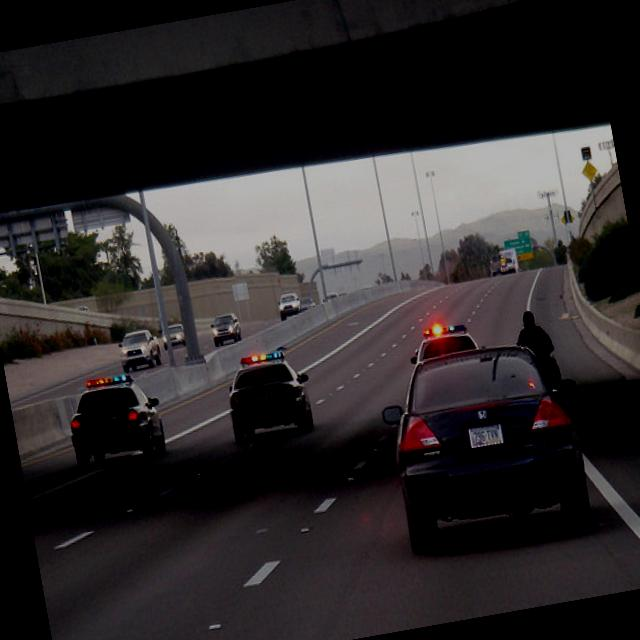Vehicle: (374, 332, 601, 562), (62, 370, 170, 472), (220, 344, 318, 444), (404, 320, 482, 370), (114, 326, 164, 376), (209, 310, 243, 346), (537, 352, 562, 386), (276, 290, 303, 320), (160, 321, 187, 350), (487, 252, 504, 277), (321, 288, 348, 302), (499, 255, 516, 275), (299, 295, 317, 312)
